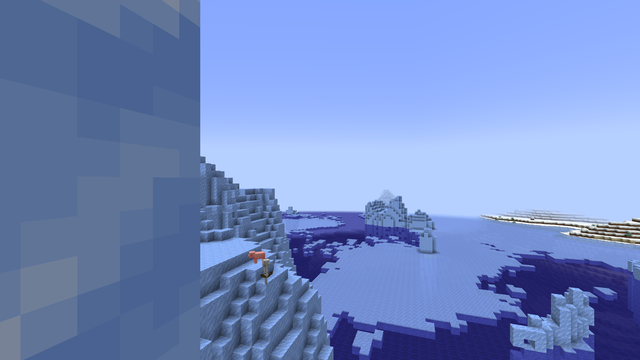cochons: (251, 250, 264, 263)
squelettes: (260, 258, 270, 285)
